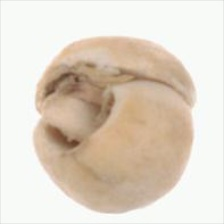L3: (38, 69, 124, 151)
L4: (32, 36, 197, 215)
